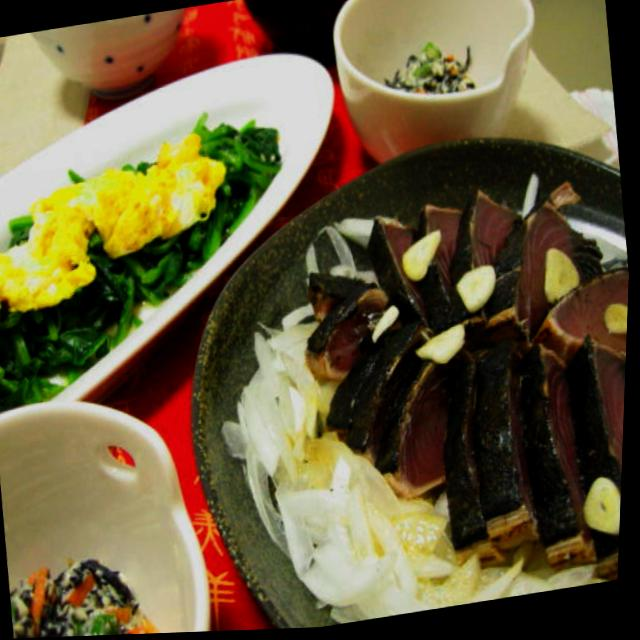熟制海鲜: (245, 124, 636, 632)
